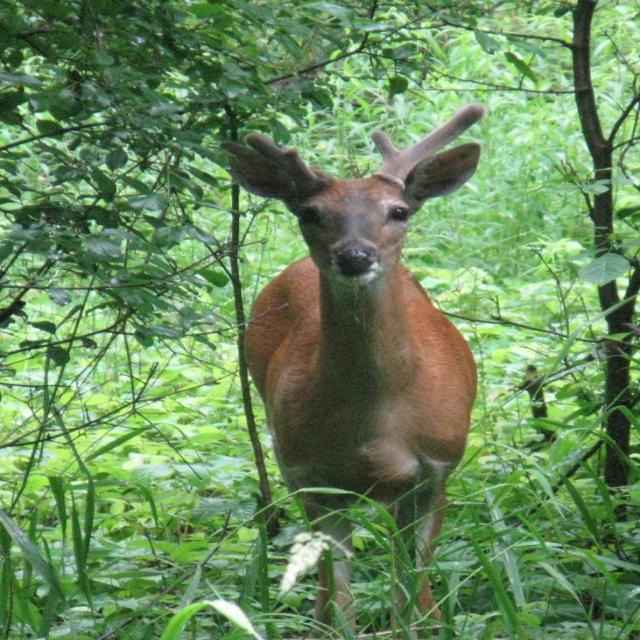Deer: (240, 102, 480, 638)
